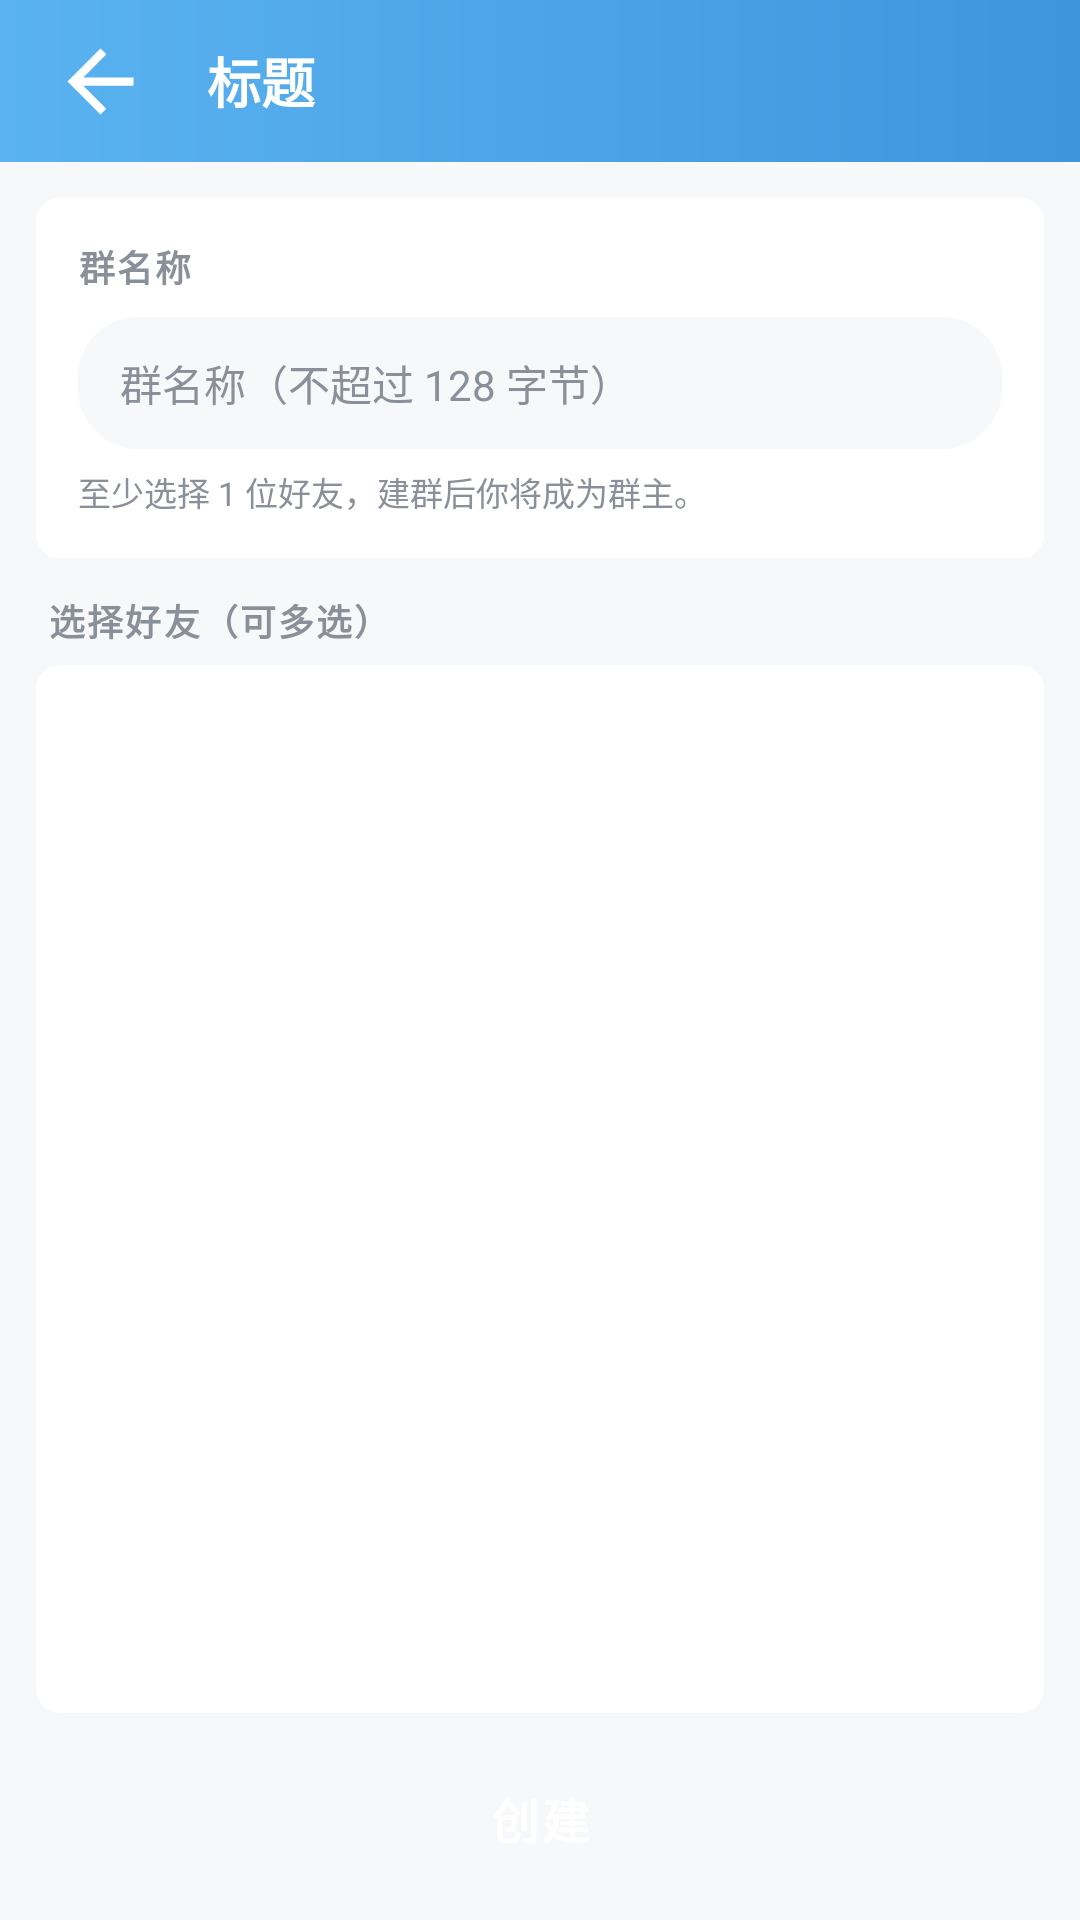

Point at icon controls on the screen. Image size 1080 x 1920, points as (x,y).
返回: (100,81)
